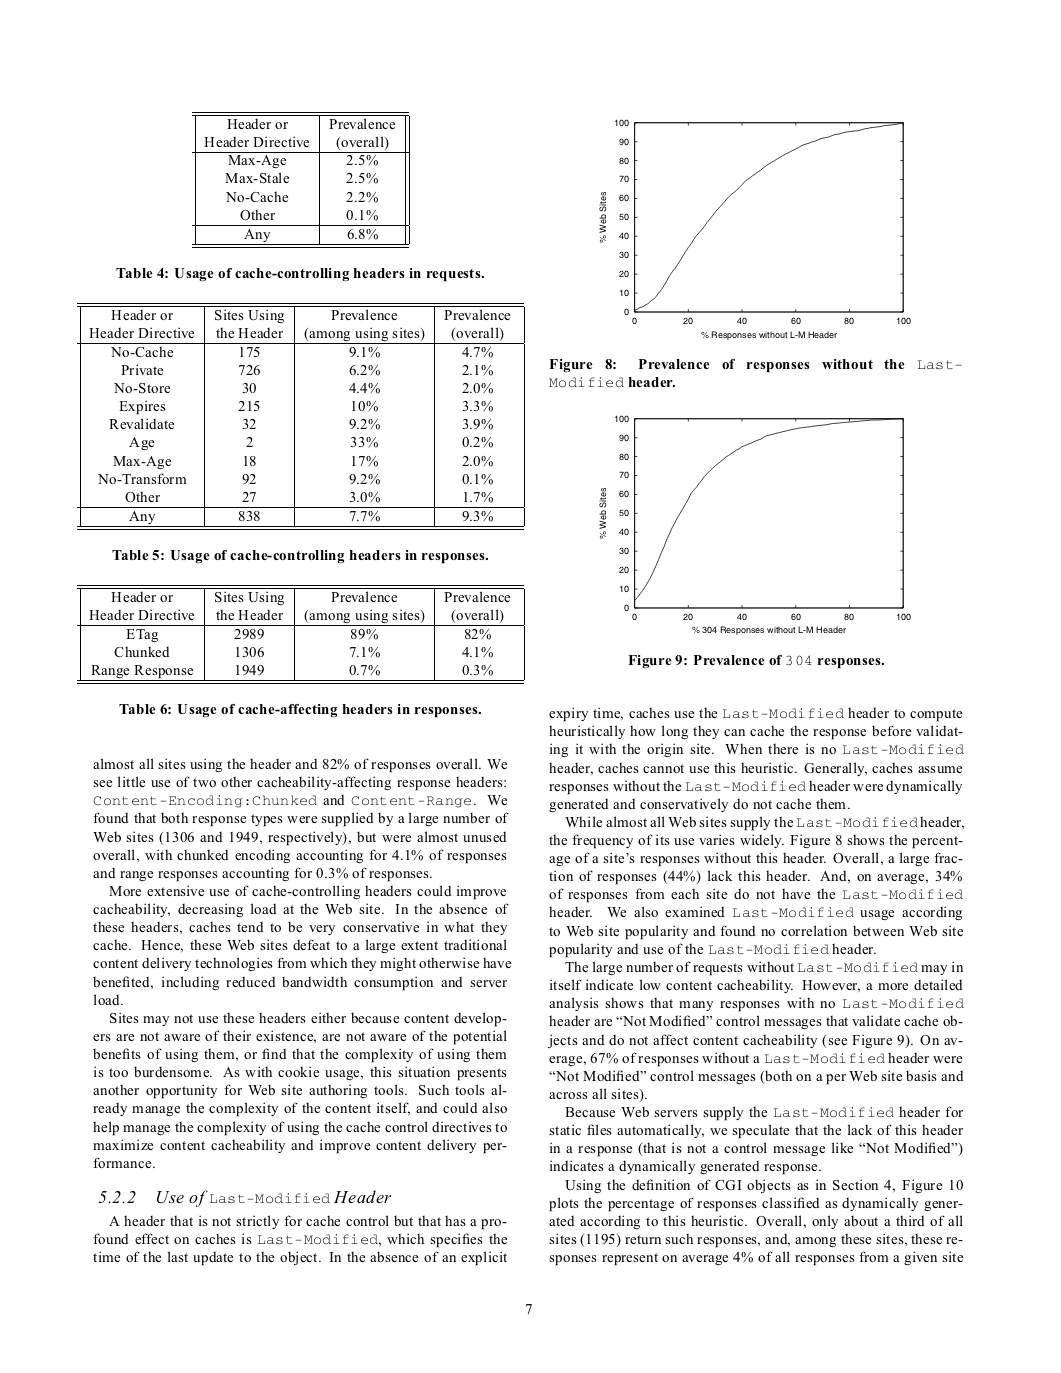Table: (77, 302, 524, 528), (77, 584, 524, 682), (192, 111, 409, 249)
figure: (598, 119, 911, 339), (598, 415, 911, 634)
